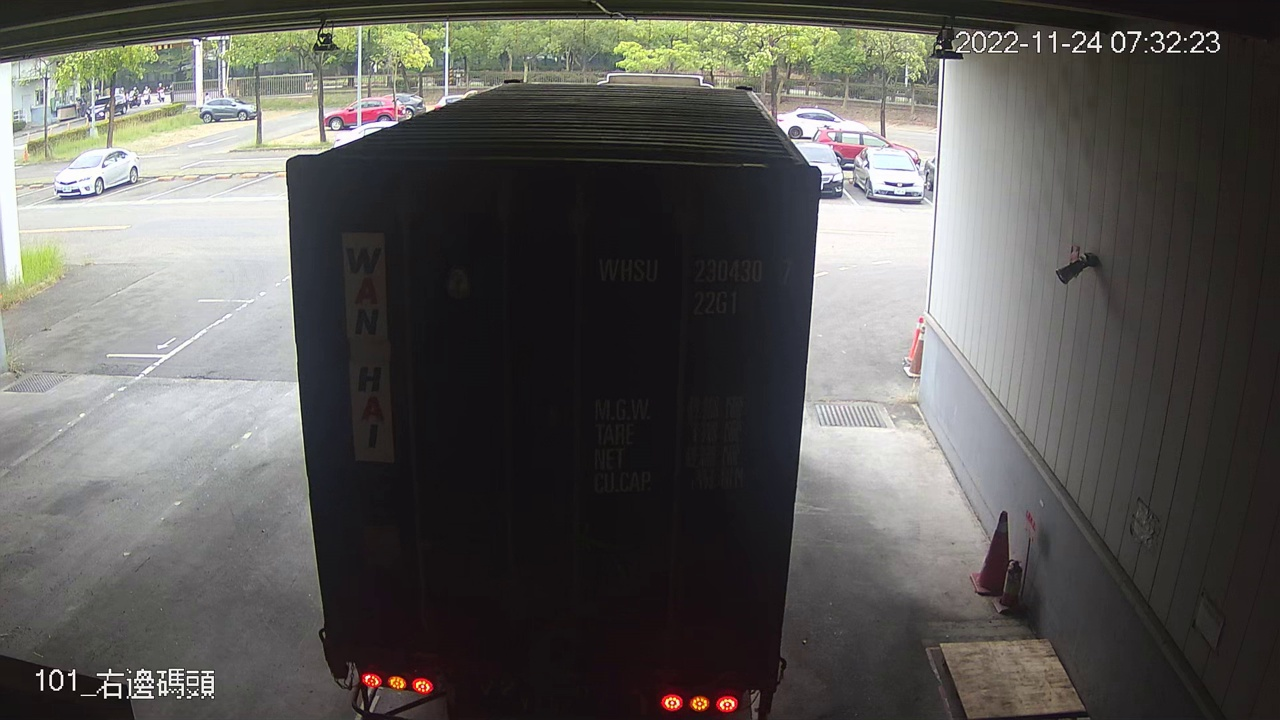container: (591, 245, 800, 326)
